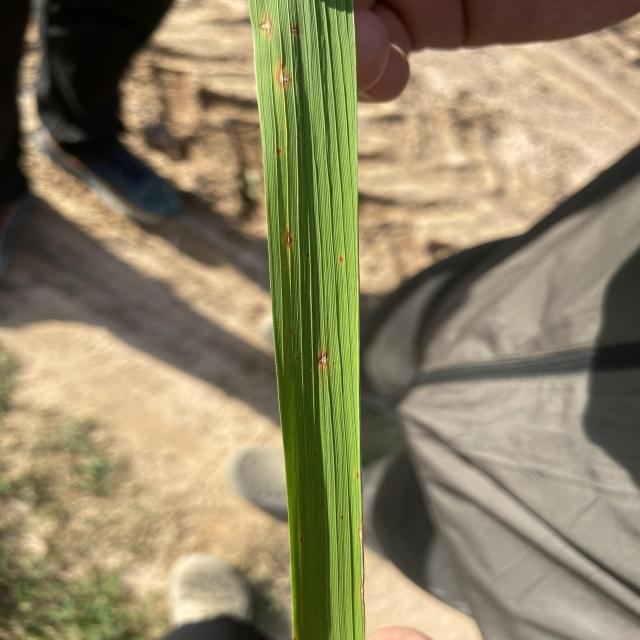Dao on: (277, 65, 291, 88), (260, 14, 273, 36), (318, 351, 329, 369), (286, 232, 293, 247), (292, 27, 298, 34), (276, 148, 282, 154), (339, 256, 345, 262)
